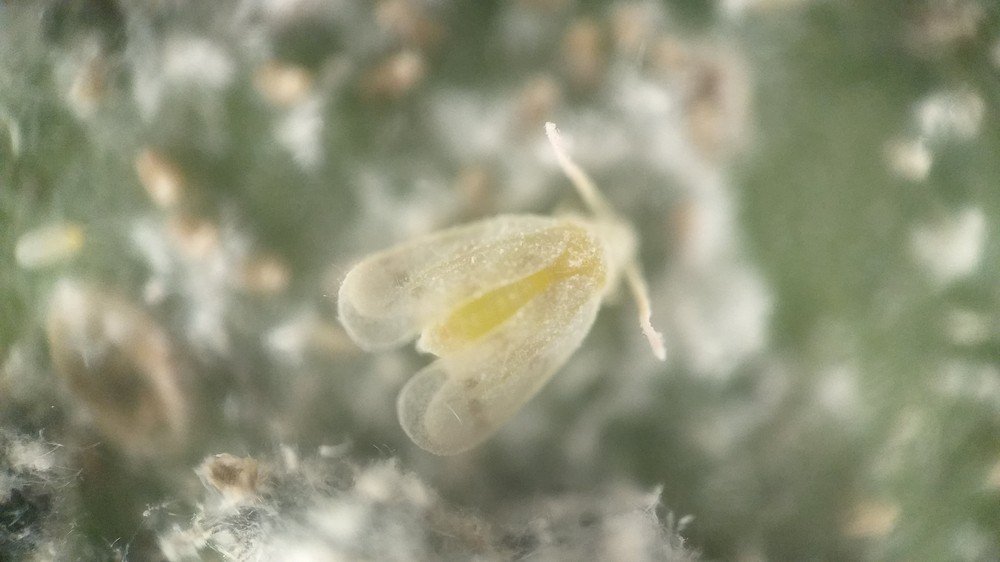Mosca Blanca: (323, 118, 695, 470)
